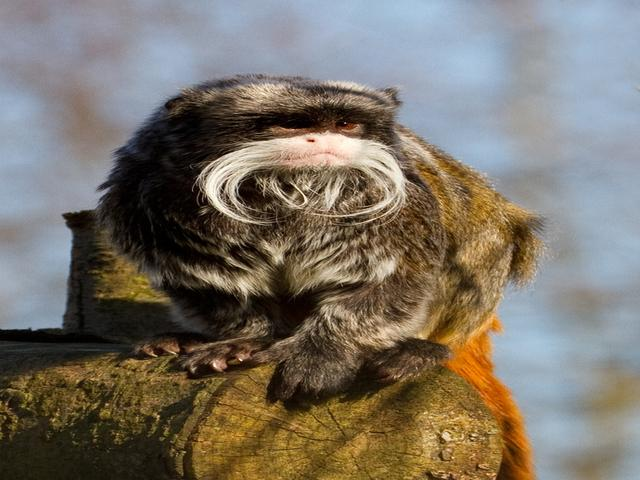monkey: (44, 58, 574, 399)
